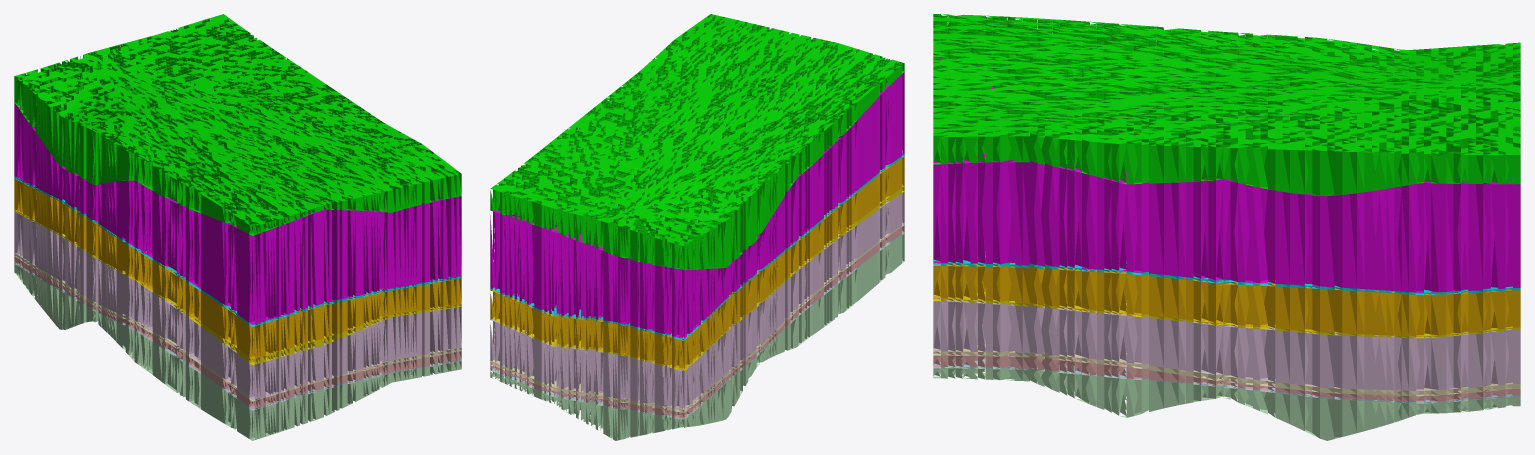
3 views of the same model, side by side, from view 1: azimuth 30°, elevation 25°; view 2: azimuth 150°, elevation 25°; view 3: azimuth 270°, elevation 25° (orthographic). The views are drawn at different scales.
Parts seen in each view (by area): view 1: loose layer, gravel sandstone layer, Sandstone_1, Sandstone and mudstone mixed layer, Sandstone_3, Sandstone_2, coal4-2, coal5-2, coal3-1, coal5-3; view 2: loose layer, gravel sandstone layer, Sandstone_1, Sandstone and mudstone mixed layer, Sandstone_3, Sandstone_2, coal5-2, coal4-2, coal3-1, coal5-3; view 3: loose layer, gravel sandstone layer, Sandstone_1, Sandstone and mudstone mixed layer, Sandstone_3, Sandstone_2, coal5-2, coal3-1, coal4-2, coal5-3.
Boxes of the visible parts, <box> form: loose layer: <box>14,14,461,235</box>; gravel sandstone layer: <box>14,103,461,324</box>; Sandstone_1: <box>14,211,461,399</box>; Sandstone and mudstone mixed layer: <box>14,178,461,359</box>; Sandstone_3: <box>14,264,461,440</box>; Sandstone_2: <box>14,256,461,409</box>; coal4-2: <box>14,209,461,365</box>; coal5-2: <box>14,253,461,401</box>; coal3-1: <box>14,176,461,326</box>; coal5-3: <box>14,262,461,410</box>; loose layer: <box>490,14,904,270</box>; gravel sandstone layer: <box>490,51,904,338</box>; Sandstone_1: <box>490,191,904,409</box>; Sandstone and mudstone mixed layer: <box>490,156,904,369</box>; Sandstone_3: <box>490,234,904,440</box>; Sandstone_2: <box>490,225,904,418</box>; coal5-2: <box>490,224,904,412</box>; coal4-2: <box>490,186,904,370</box>; coal3-1: <box>490,154,904,340</box>; coal5-3: <box>490,232,904,419</box>; loose layer: <box>933,14,1520,196</box>; gravel sandstone layer: <box>933,31,1520,292</box>; Sandstone_1: <box>933,298,1520,390</box>; Sandstone and mudstone mixed layer: <box>933,263,1520,336</box>; Sandstone_3: <box>933,363,1520,440</box>; Sandstone_2: <box>933,352,1520,402</box>; coal5-2: <box>933,340,1520,396</box>; coal3-1: <box>933,252,1520,295</box>; coal4-2: <box>933,288,1520,338</box>; coal5-3: <box>933,356,1520,403</box>.
Size of the model in its own units: 3053 by 3563 by 6011.
